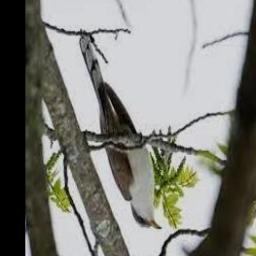Cuckoo: (80, 35, 164, 230)
